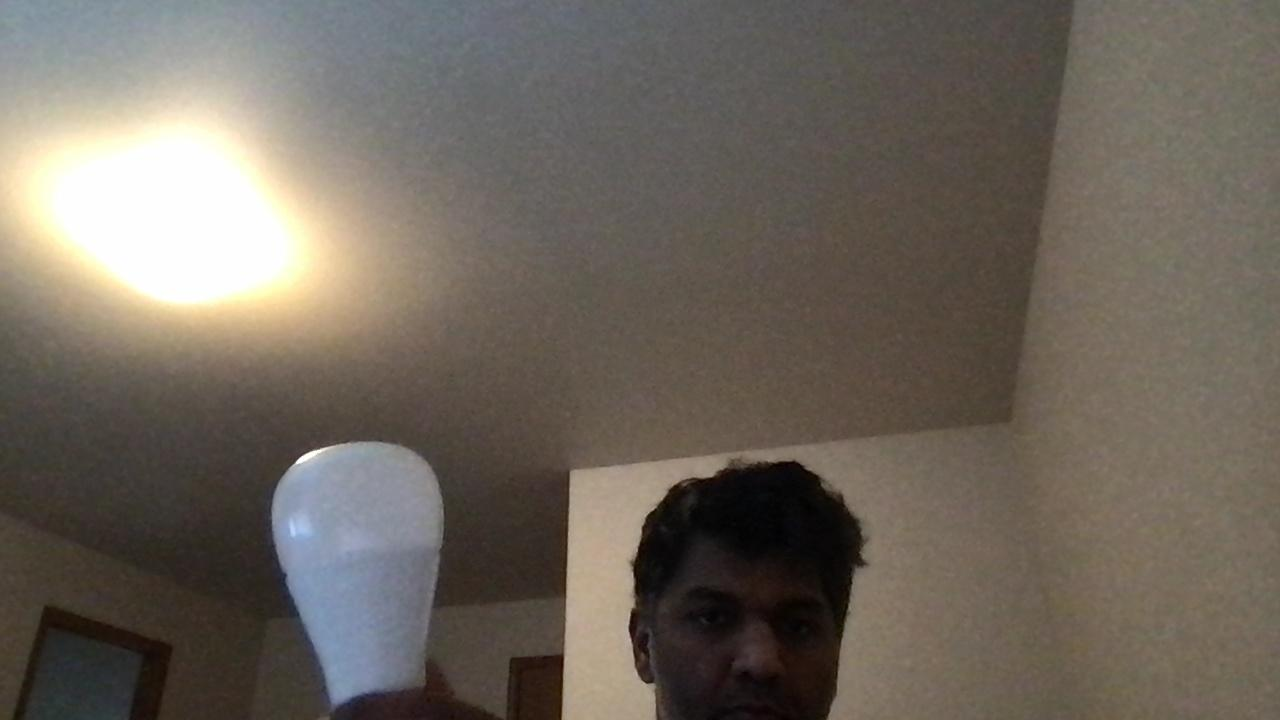Fan: (269, 440, 442, 688)
